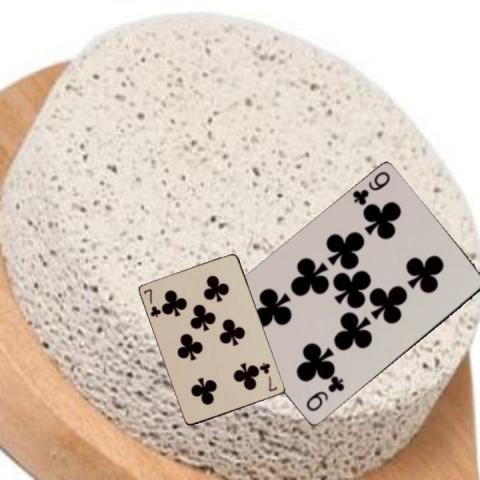7c: (141, 286, 163, 319), (258, 359, 279, 393)
9c: (303, 376, 346, 414), (349, 169, 392, 207)
